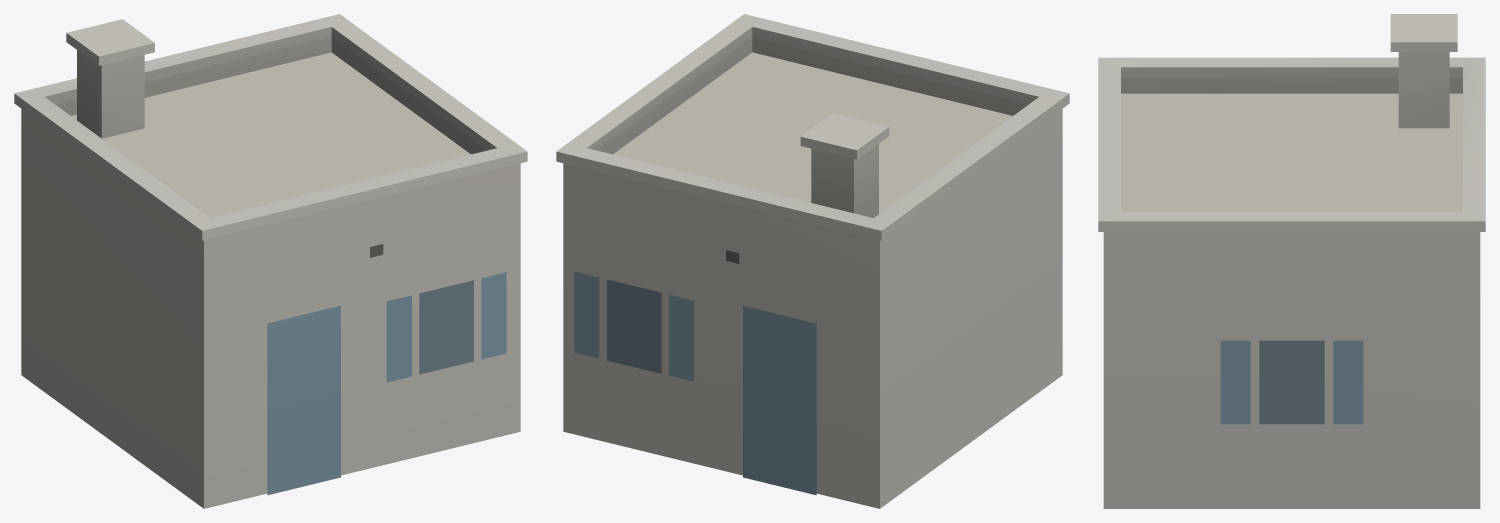
The picture shows the model from 3 angles, left to right: view 1: azimuth 30°, elevation 25°; view 2: azimuth 150°, elevation 25°; view 3: azimuth 270°, elevation 25°; orthographic projection. The views are drawn at different scales.
Bounding box in the file's own units: 4.4 × 4.42 × 4.4.
